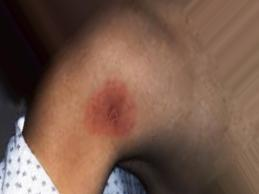Tick: (86, 80, 136, 137)
